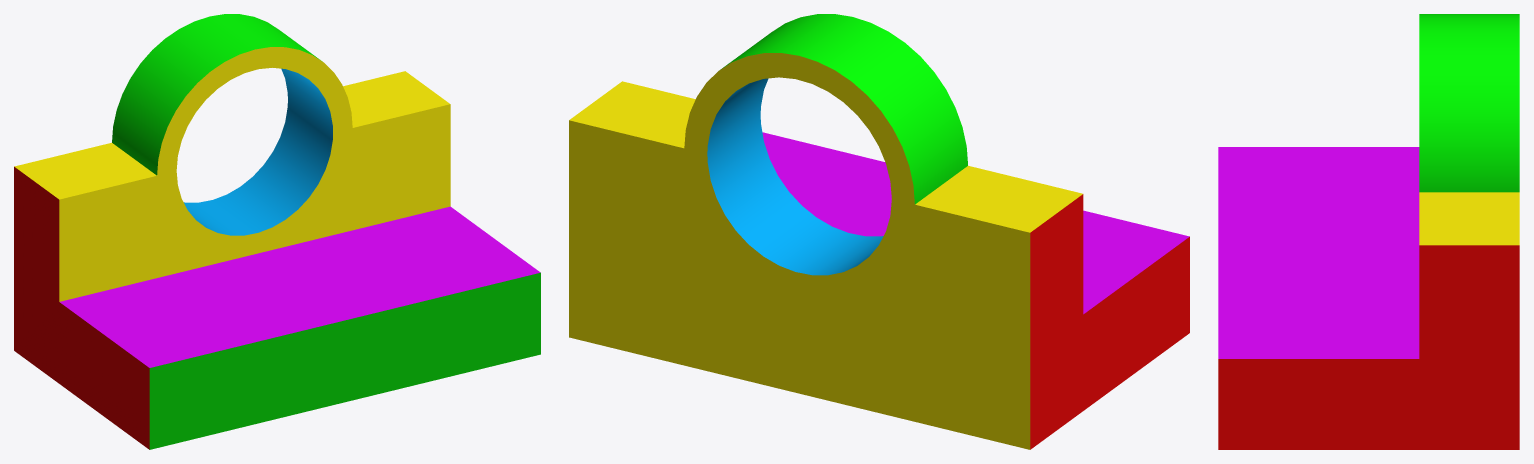
The model's file is SOLIDWORKS_200_EXERCISES_ex003.glb.
3 views of the same model, side by side, from view 1: azimuth 30°, elevation 25°; view 2: azimuth 150°, elevation 25°; view 3: azimuth 270°, elevation 25° (orthographic). The views are drawn at different scales.
Parts seen in each view (by area): view 1: 3DGeom-16, 3DGeom-14, 3DGeom-12, 3DGeom-17, 3DGeom-13, 3DGeom-15; view 2: 3DGeom-16, 3DGeom-17, 3DGeom-13, 3DGeom-14, 3DGeom-15; view 3: 3DGeom-14, 3DGeom-17, 3DGeom-13, 3DGeom-16.
Boxes of the visible parts, x1,y1,x2,y2 form: 3DGeom-16: (14,47,450,301); 3DGeom-14: (60,206,540,367); 3DGeom-12: (149,272,540,449); 3DGeom-17: (14,166,149,449); 3DGeom-13: (112,14,322,175); 3DGeom-15: (184,68,332,235); 3DGeom-16: (569,53,1082,449); 3DGeom-17: (1030,194,1189,449); 3DGeom-13: (720,14,967,204); 3DGeom-14: (762,132,1189,314); 3DGeom-15: (707,78,883,275); 3DGeom-14: (1218,147,1419,358); 3DGeom-17: (1218,245,1519,449); 3DGeom-13: (1419,14,1519,192); 3DGeom-16: (1419,192,1519,245).
Bounding box in the file's own units: 0.1 × 0.07 × 0.06.
